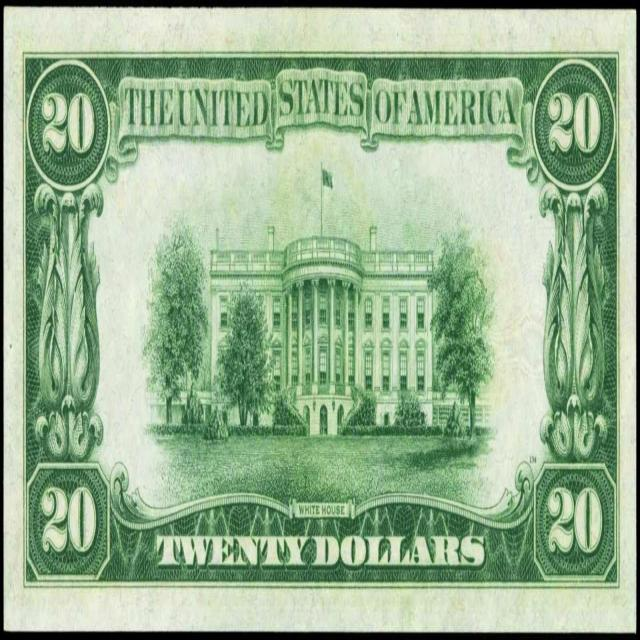20-Back: (5, 8, 640, 640)
